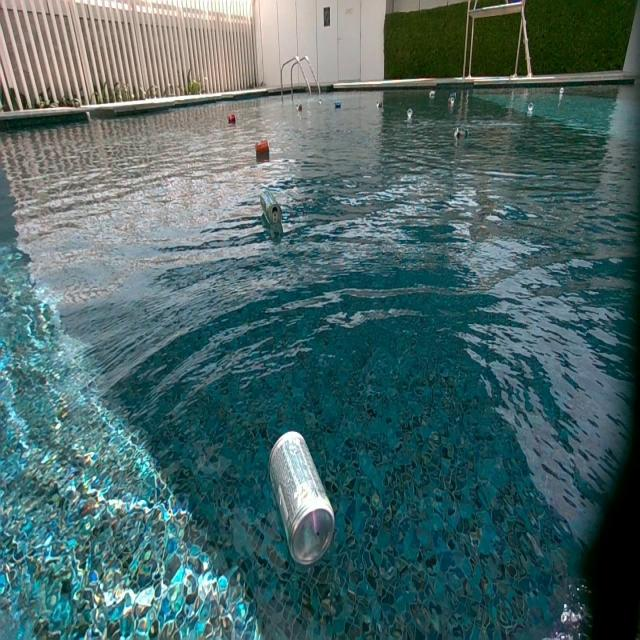Cans: (267, 428, 336, 567), (261, 189, 282, 226), (454, 128, 469, 143), (255, 140, 269, 156), (294, 103, 302, 113), (227, 116, 235, 126), (336, 101, 344, 110), (428, 92, 436, 101), (527, 103, 534, 113), (408, 108, 415, 118), (449, 95, 456, 104), (375, 99, 382, 107), (559, 88, 565, 97), (318, 98, 324, 106)
